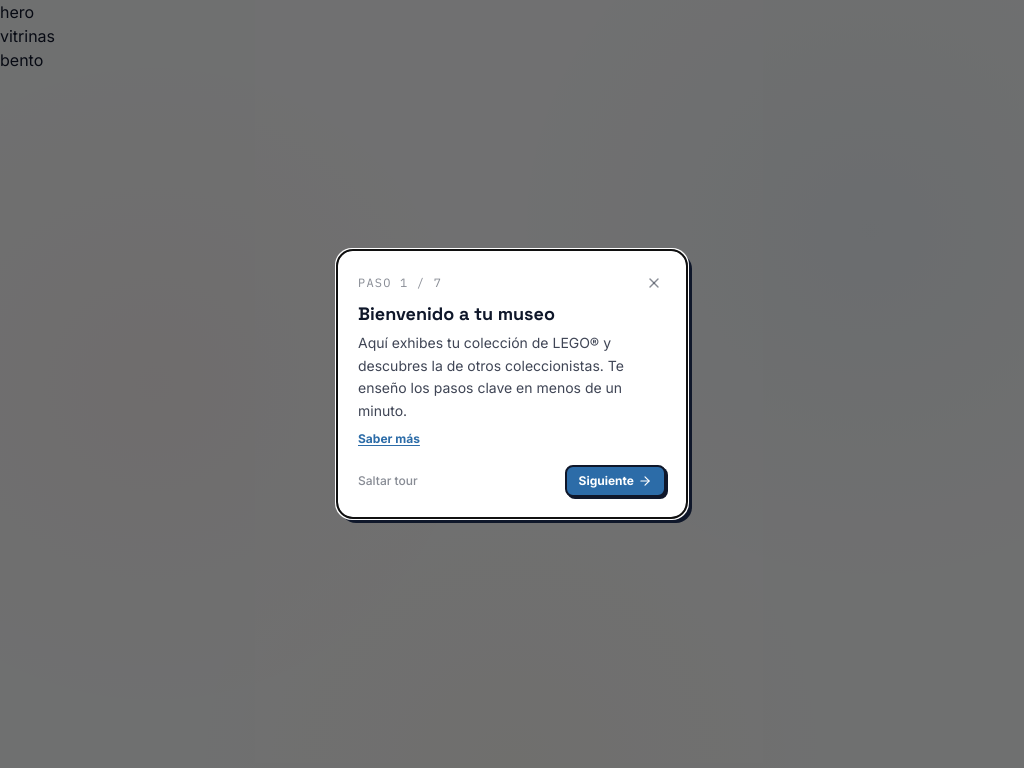
Test case: TourOverlay › avanza al siguiente paso al pulsar 'Siguiente'
Check: the dialog is shown, box [336,249,688,519]
Click the button "Siguiente".
click(615, 481)  # box [564,465,666,497]
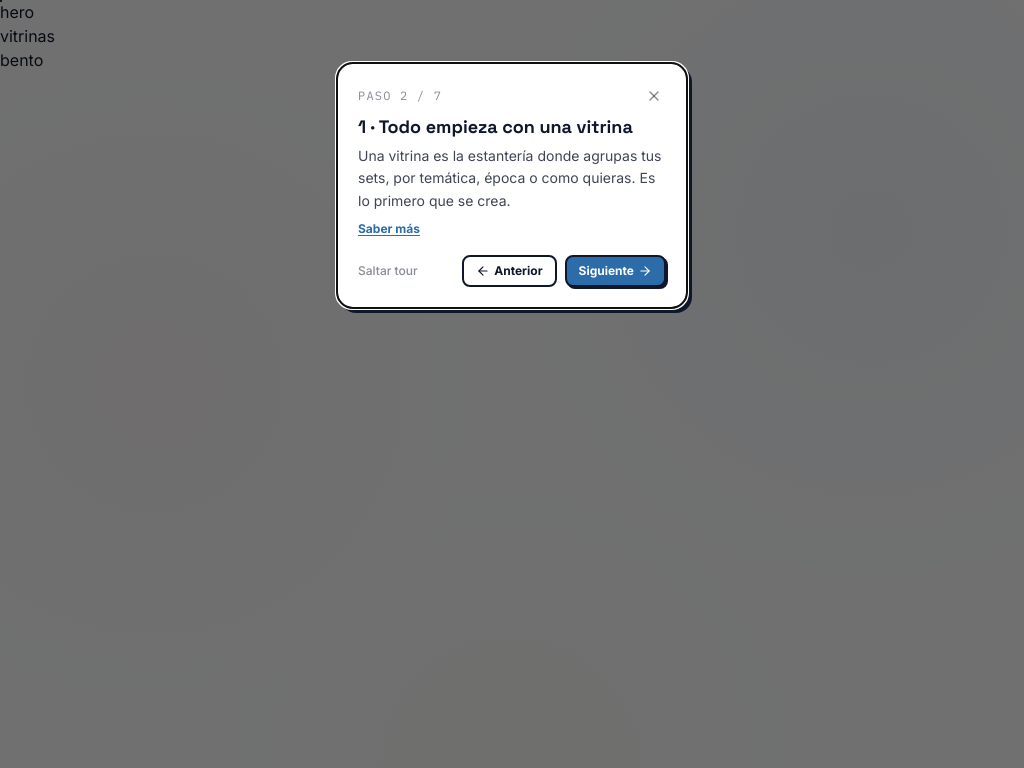
Check: the heading "1 · Todo empieza con una vitrina" is shown, box [358,116,666,138]
